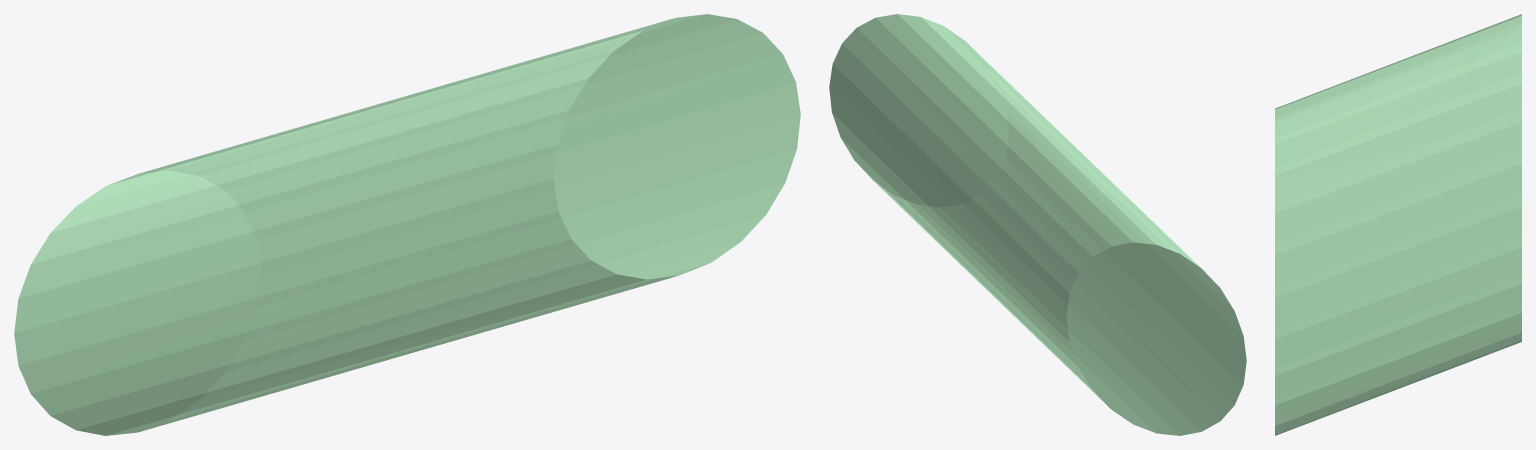
3 renders of one model, left to right at view 1: azimuth 30°, elevation 25°; view 2: azimuth 150°, elevation 25°; view 3: azimuth 270°, elevation 25°, orthographic. The views are drawn at different scales.
Parts seen in each view (by area): view 1: root; view 2: root; view 3: root.
Part boxes in pixels (<box>): root: <box>14,14,800,435</box>; root: <box>829,14,1246,435</box>; root: <box>1275,14,1521,435</box>.
Size of the model in its own units: 11 by 6 by 3.
